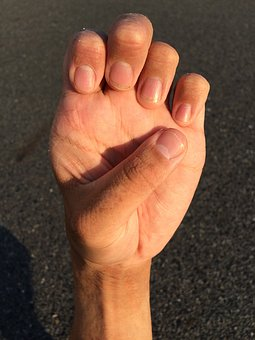palm: (73, 98, 196, 249)
